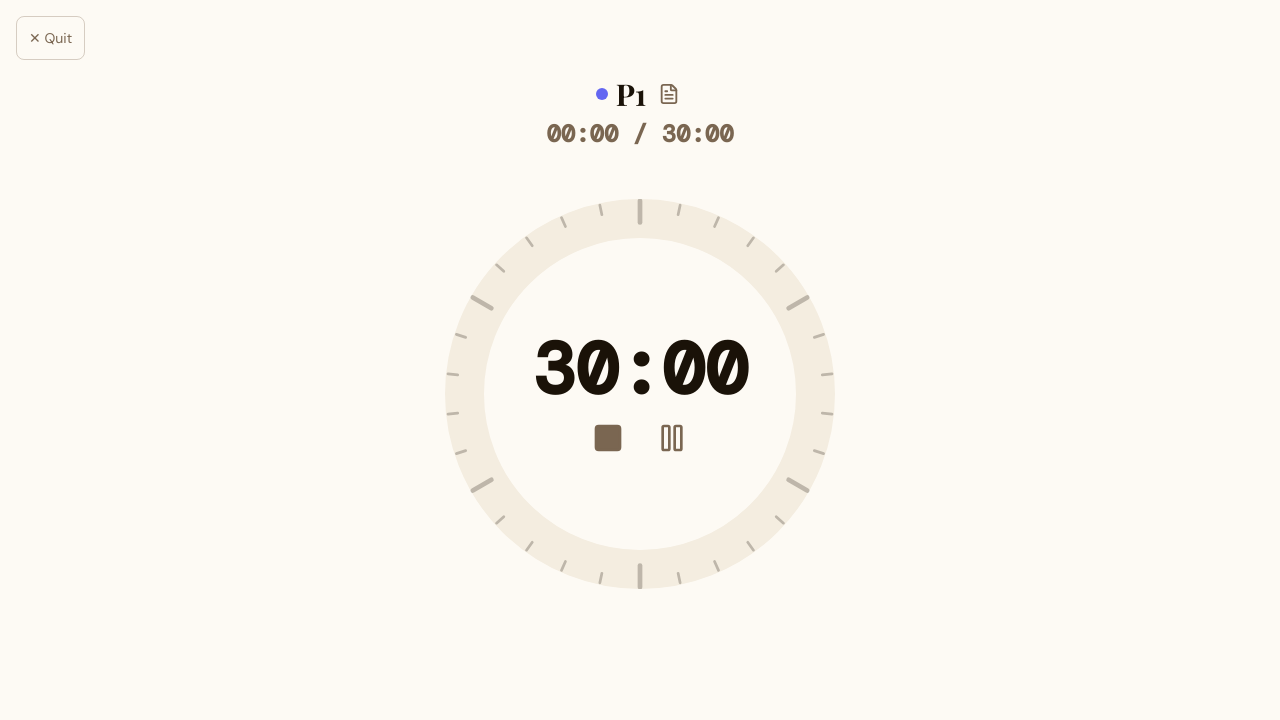
Test case: PomodoroTimer notes button › clicking notes button opens the detail sheet
This screenshot has width=1280, height=720.
Check: the text "TODO" is not shown
Click the button named "notes" at (669, 94), box [654,79,684,109]
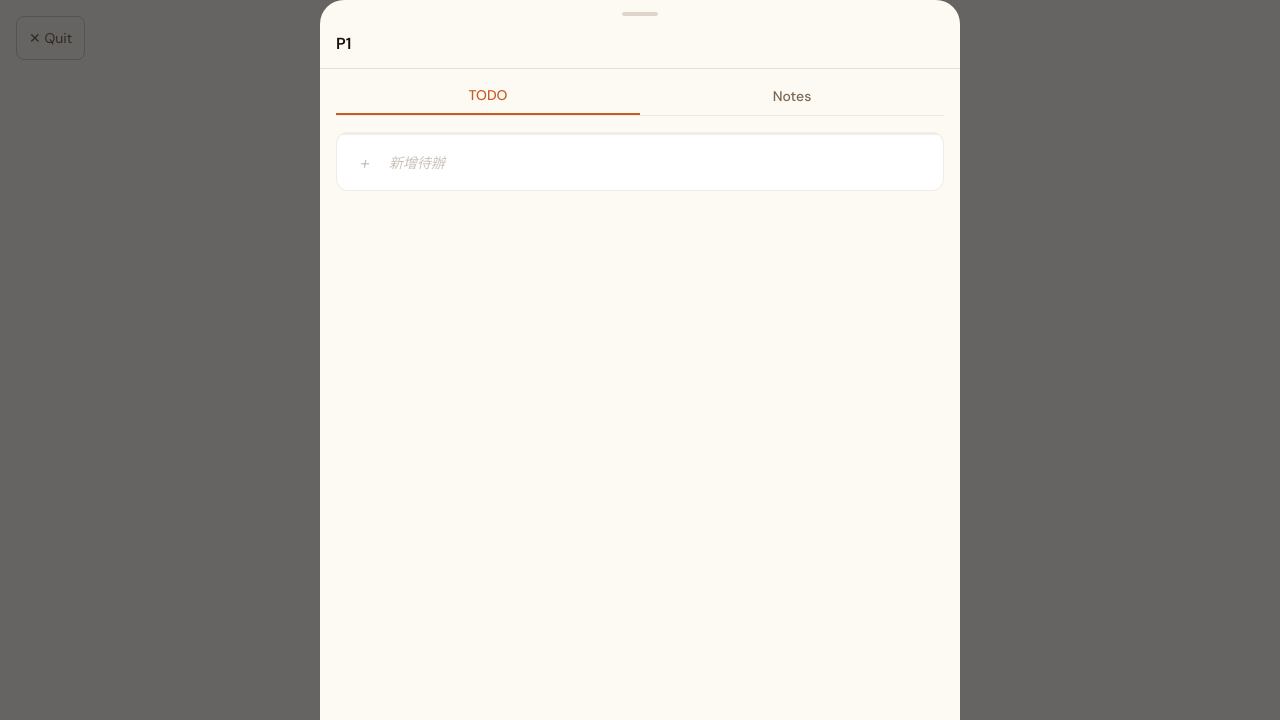
Check: the button "TODO" is shown, box [336,77,640,115]
